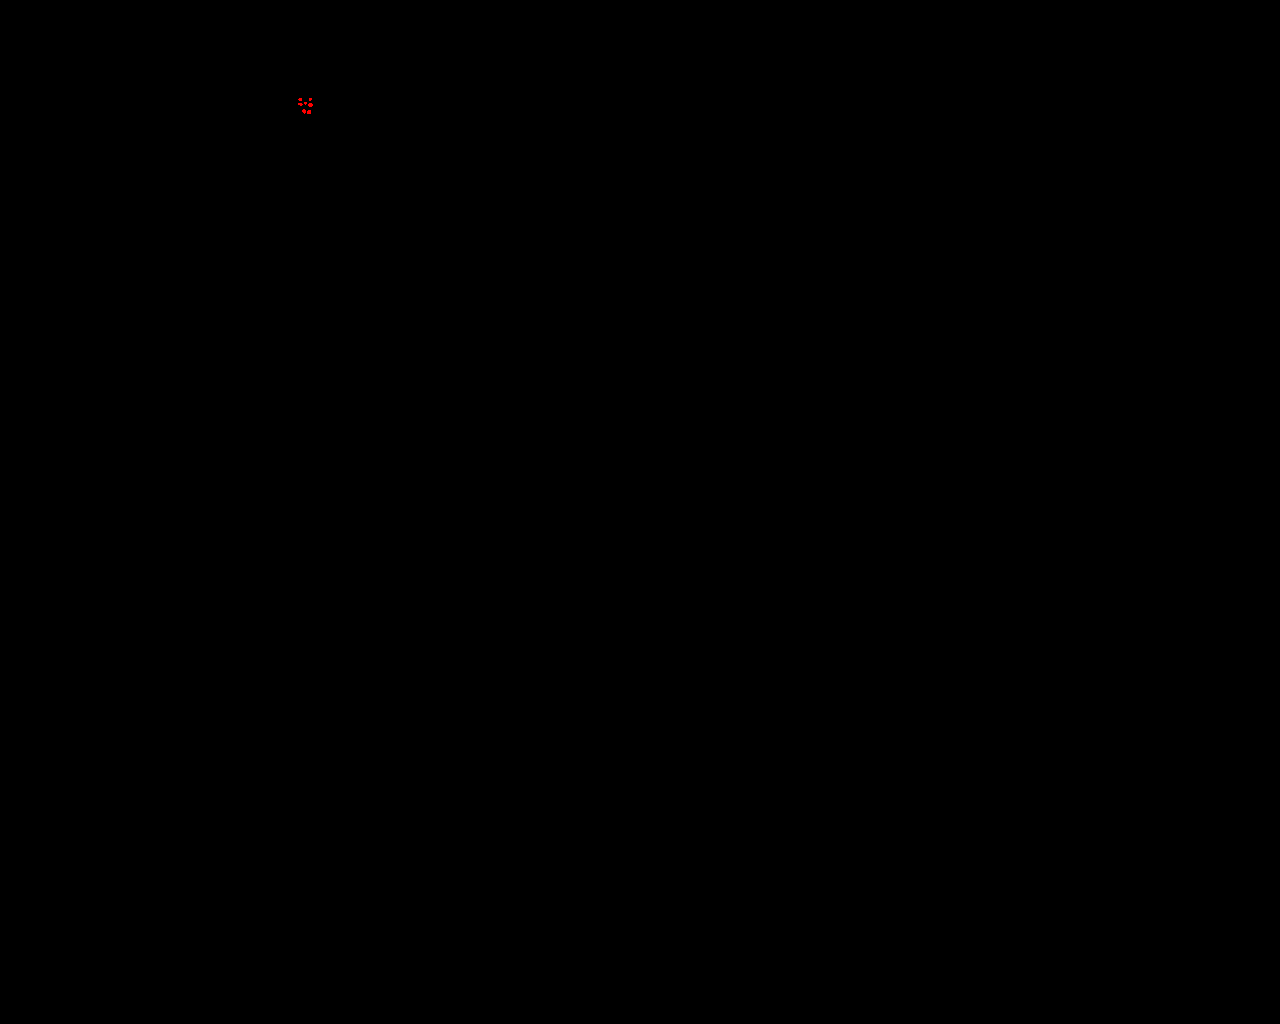Target: (302, 109, 306, 114), (307, 110, 311, 114), (308, 103, 313, 107), (298, 98, 302, 101), (298, 103, 303, 106), (309, 98, 312, 101), (304, 102, 307, 104)
